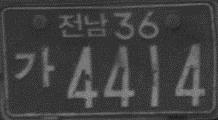1: (148, 43, 159, 109)
3: (112, 10, 135, 39)
4: (101, 44, 136, 108), (174, 43, 206, 107), (66, 45, 98, 108)
6: (139, 10, 158, 39)
가: (13, 46, 55, 88)
전남_O: (57, 12, 109, 39)
